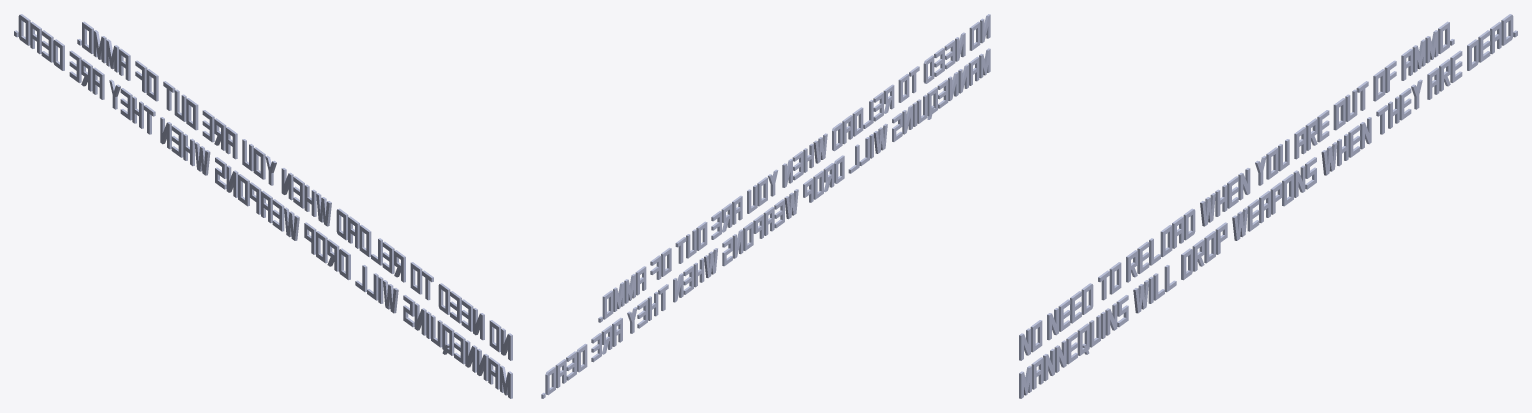
File: No_Reload.FBX
3 views of the same model, side by side, from view 1: azimuth 30°, elevation 25°; view 2: azimuth 150°, elevation 25°; view 3: azimuth 330°, elevation 25° (orthographic). The views are drawn at different scales.
Size of the model in its own units: 0.1 by 2.69 by 35.87.
